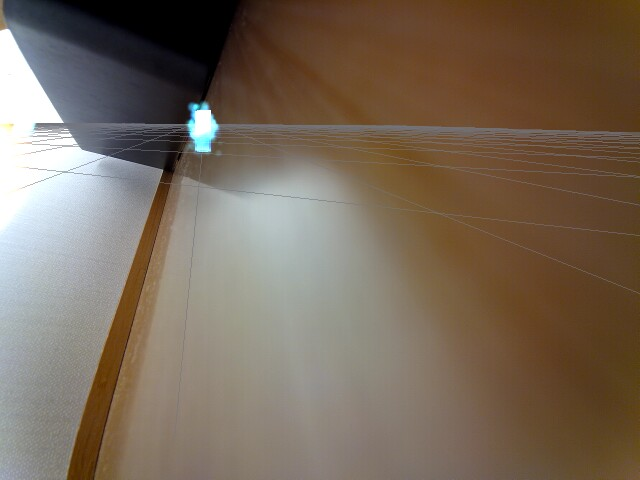firebig: (0, 88, 40, 231)
